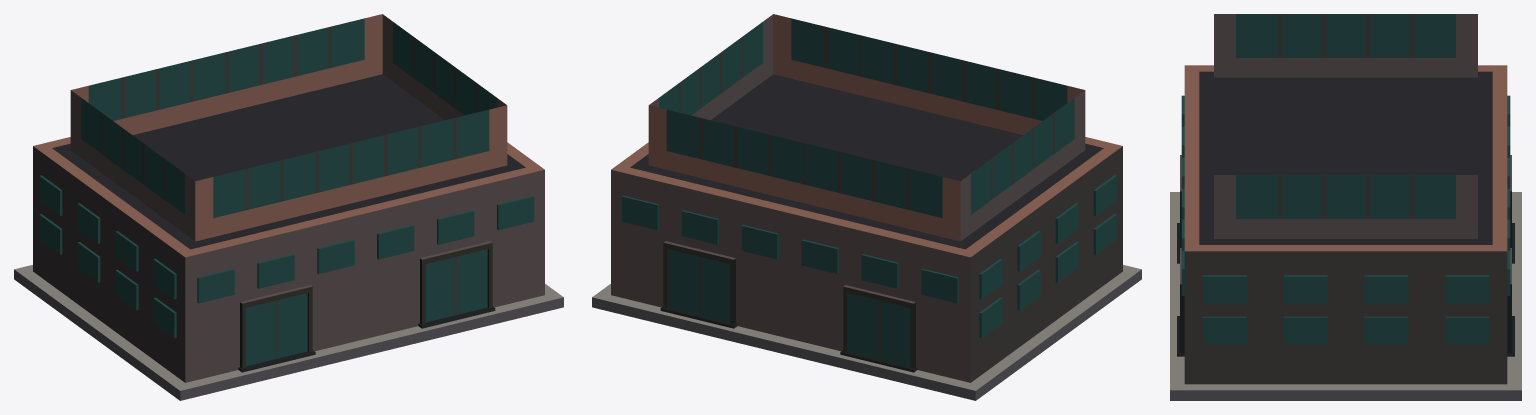
Rendered from TB_CITY_Skysc_A_Bottom_Red.FBX.
3 views of the same model, side by side, from view 1: azimuth 30°, elevation 25°; view 2: azimuth 150°, elevation 25°; view 3: azimuth 270°, elevation 25° (orthographic). The views are drawn at different scales.
Parts seen in each view (by area): view 1: TB_CITY_Skysc_A_Bottom_Red; view 2: TB_CITY_Skysc_A_Bottom_Red; view 3: TB_CITY_Skysc_A_Bottom_Red.
Part boxes in pixels (x1,y1,x2,y2): TB_CITY_Skysc_A_Bottom_Red: (14,14,563,400); TB_CITY_Skysc_A_Bottom_Red: (592,14,1141,400); TB_CITY_Skysc_A_Bottom_Red: (1170,14,1521,400).
Size of the model in its own units: 32 by 15.6 by 24.
